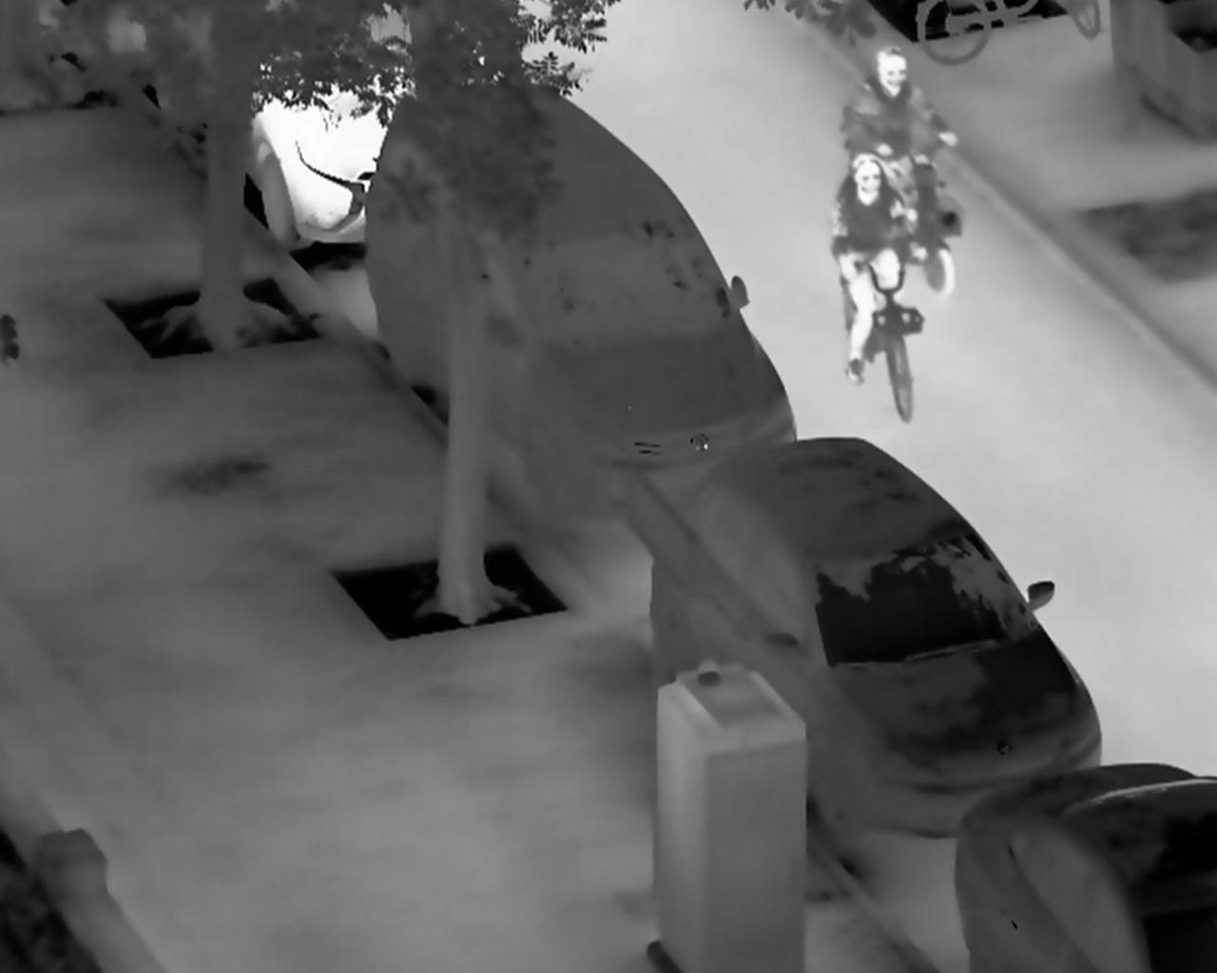person: (829, 151, 929, 384), (843, 43, 961, 219)
